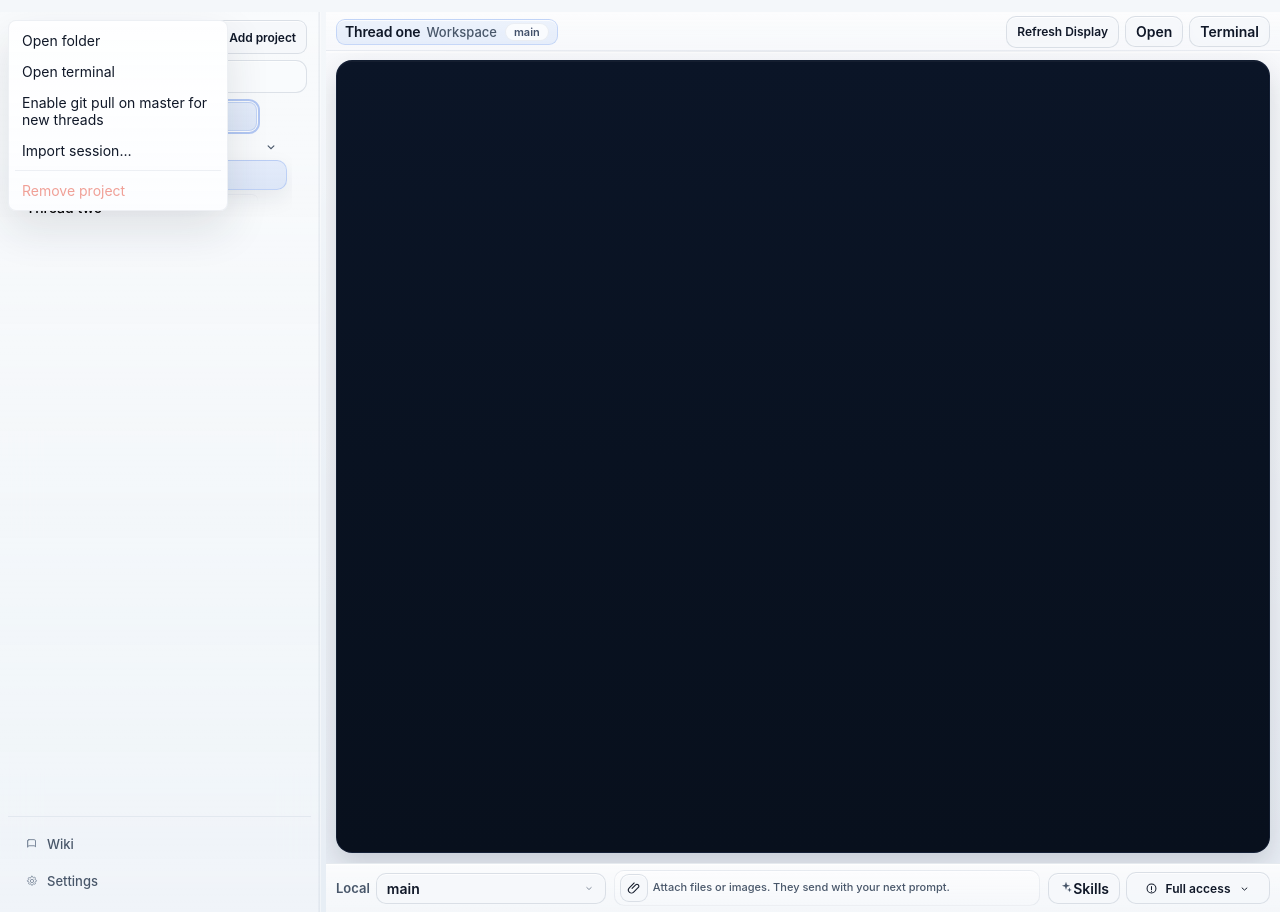
it: Thread lifecycle integration › shows the pulled commit id in a popup toast after successful pre-step
Step 1. Click the button "Enable git pull on master for new threads" → (118, 111), box top-left (13, 87), bottom-right (223, 135)
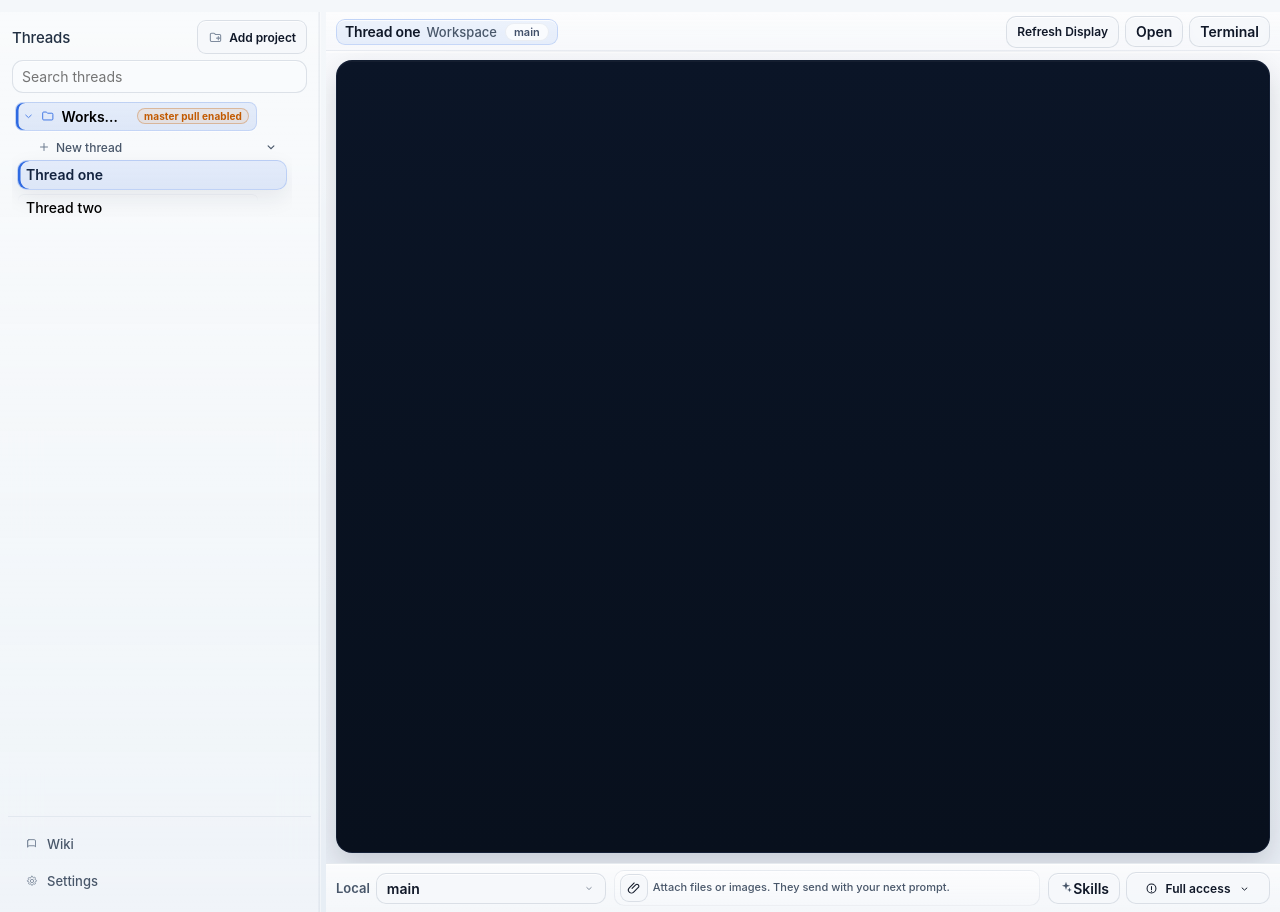
Step 2. Click the button with test id "workspace-new-thread-ws-1" → (134, 147), box top-left (17, 134), bottom-right (251, 160)
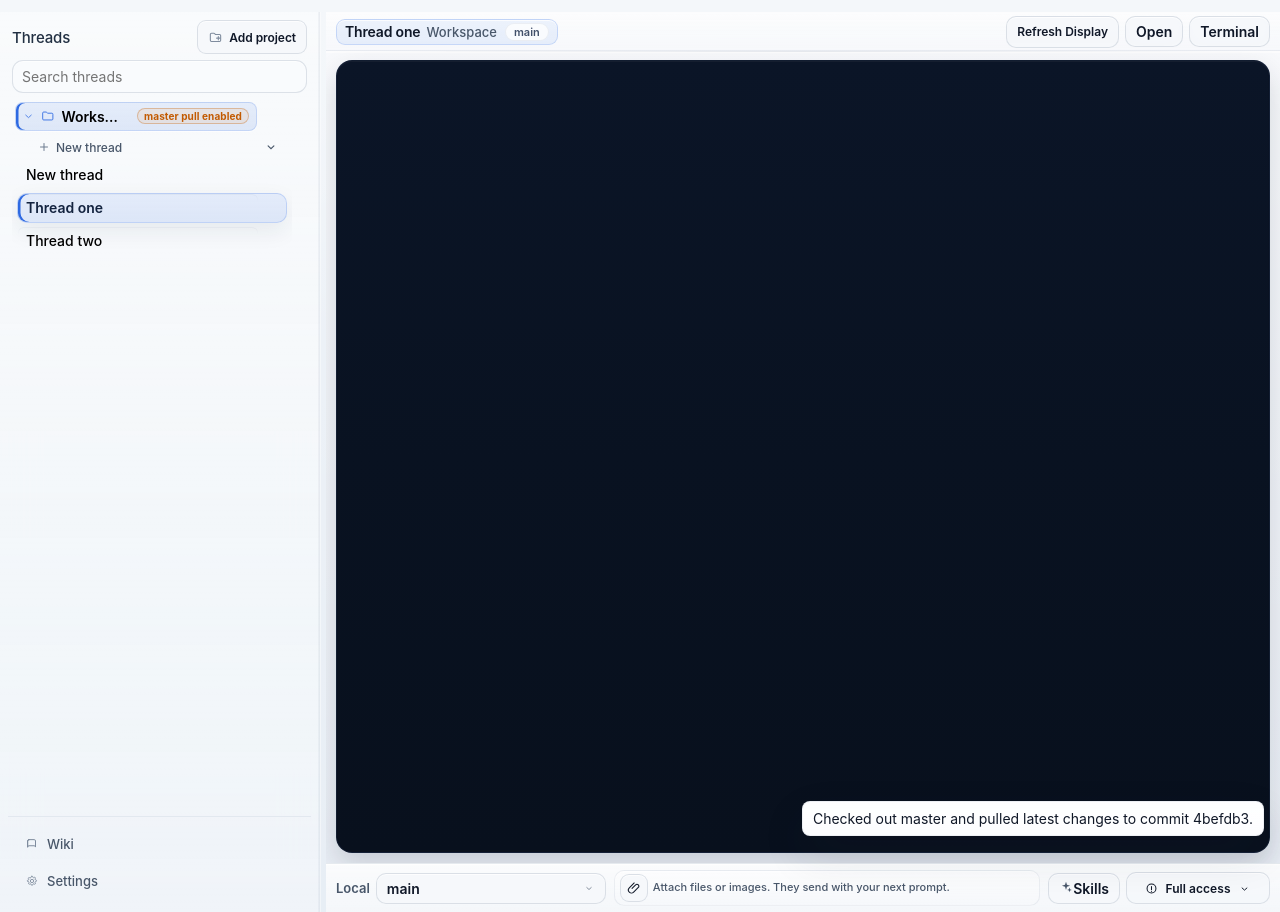
Now the text "Checked out master and pulled latest changes to commit 4befdb3." is shown, box top-left (802, 801), bottom-right (1264, 836)
